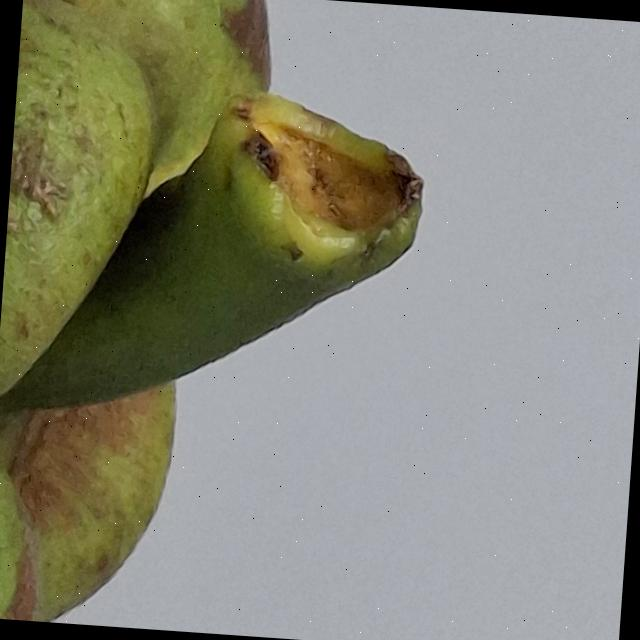mangosteen: (0, 0, 427, 640)
